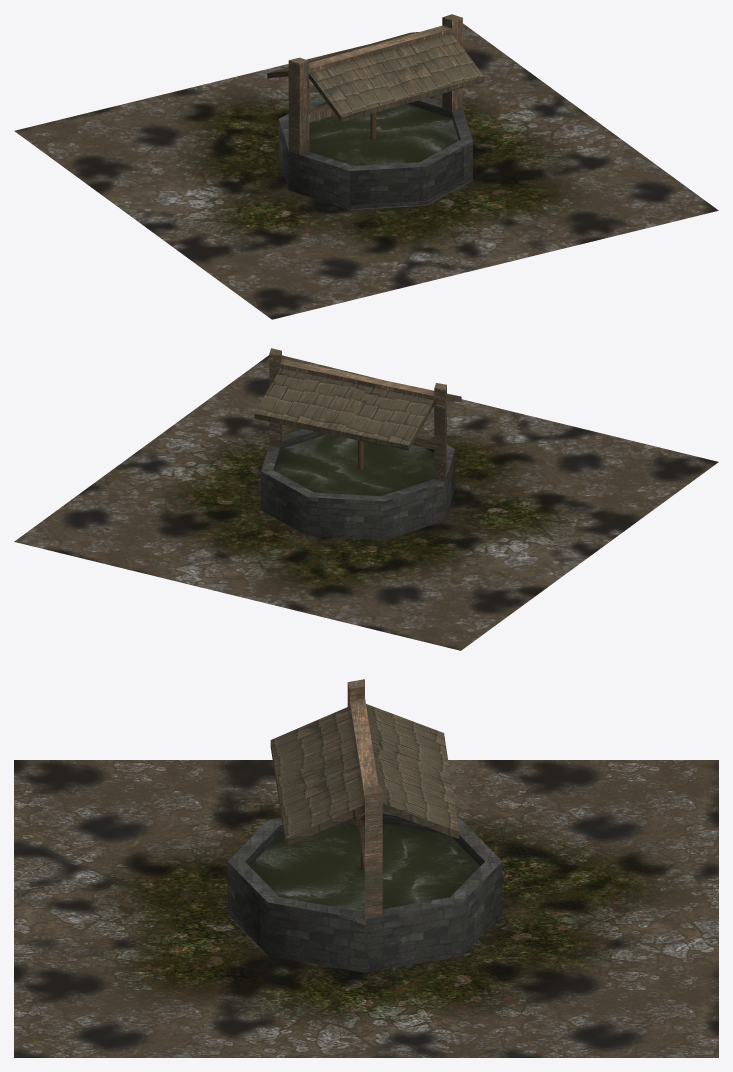
File: well.FBX
The picture shows the model from 3 angles, top to bottom: view 1: azimuth 30°, elevation 25°; view 2: azimuth 150°, elevation 25°; view 3: azimuth 270°, elevation 25°; orthographic projection. The views are drawn at different scales.
Parts seen in each view (by area): view 1: Well; view 2: Well; view 3: Well.
Boxes of the visible parts, x1,y1,x2,y2 form: Well: (14,14,718,319); Well: (14,348,718,650); Well: (14,679,718,1057).
Bounding box in the file's own units: 5.91 × 1.64 × 5.91.
